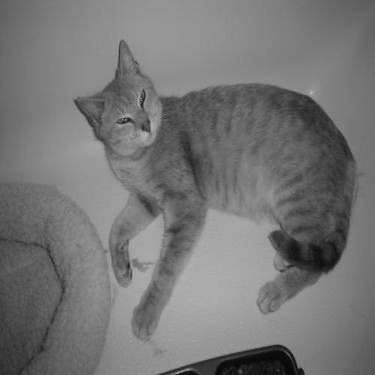cat: (58, 31, 363, 346)
